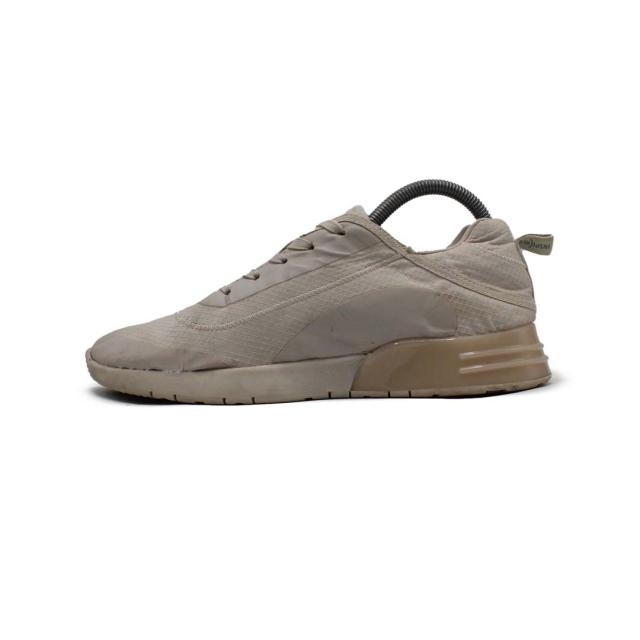heel: (496, 209, 556, 330)
midsole: (79, 344, 556, 403)
uppersole: (77, 205, 497, 358)
